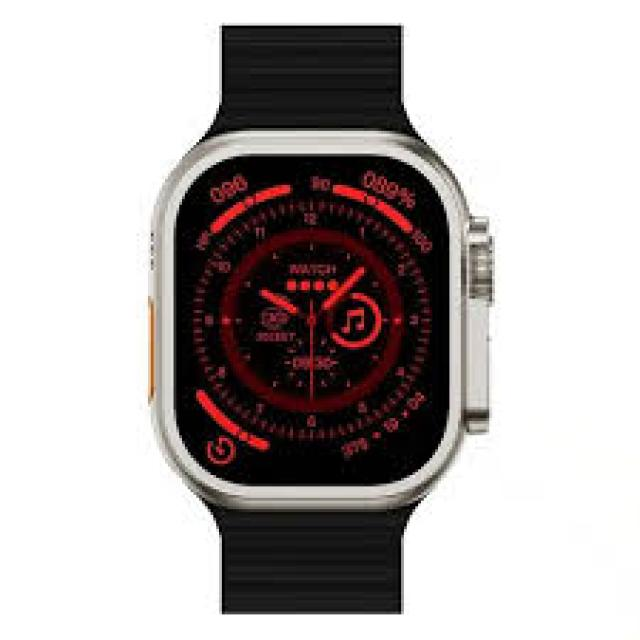objects: (151, 26, 496, 614)
